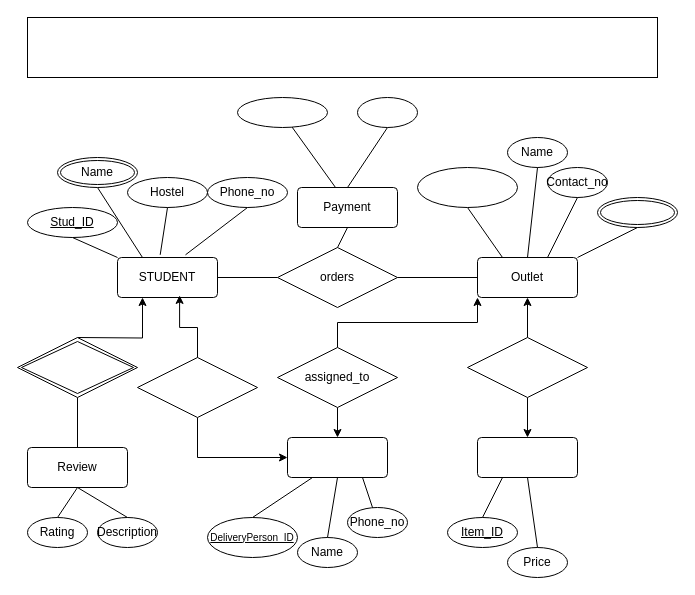
The diagram is 695 pixels wide and 595 high, and some of its shapes have lost their labels. The centre of each missing label's shape, as x and y in pixels:
"Amount" goes at point (387, 112).
"Campus Food Delivery System" goes at point (342, 47).
"contains" goes at point (527, 367).
"DeliversTo" goes at point (197, 387).
"DeliveryPerson" goes at point (337, 457).
"MenuItems" goes at point (527, 457).
"Outlet_ID" goes at point (467, 187).
"Payment_ID" goes at point (282, 112).
"Timing" goes at point (637, 212).
"writes" goes at point (77, 367).
